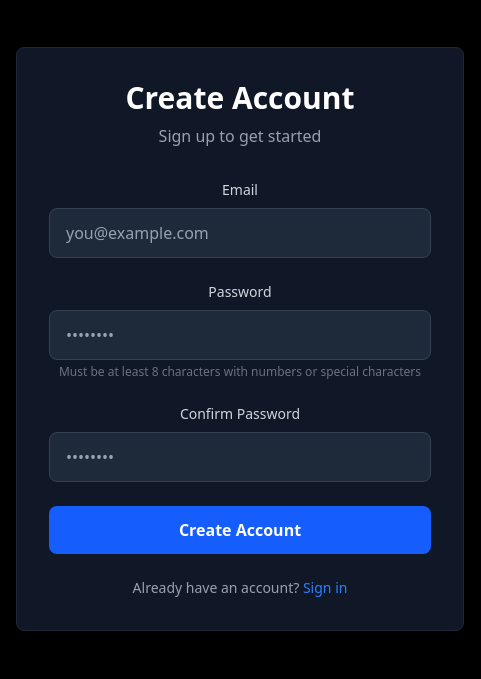
Test: Register Component › Error Handling › displays validation error message for 400 status
In the field labelled "Email": (240, 233) [49,208,431,258], type "test@example.com"
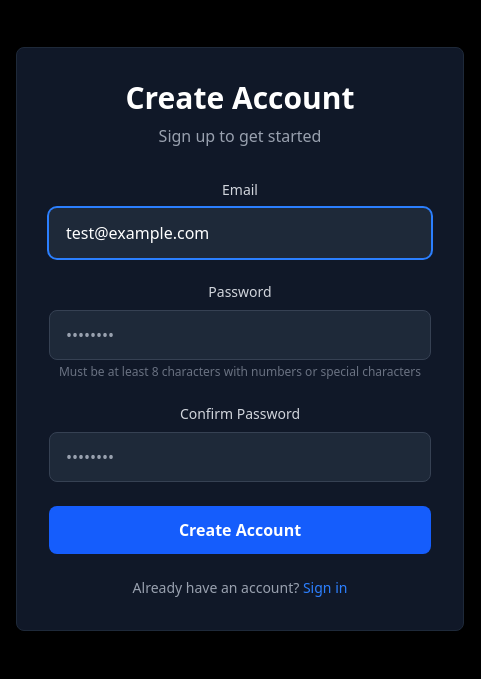
In the password field labelled "Password": (240, 335) [49,310,431,360], type "SecurePass123!"
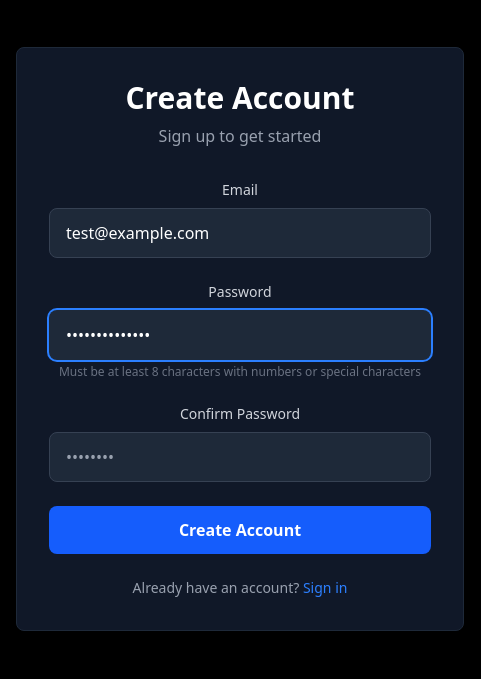
In the password field labelled "Confirm Password": (240, 457) [49,432,431,482], type "SecurePass123!"
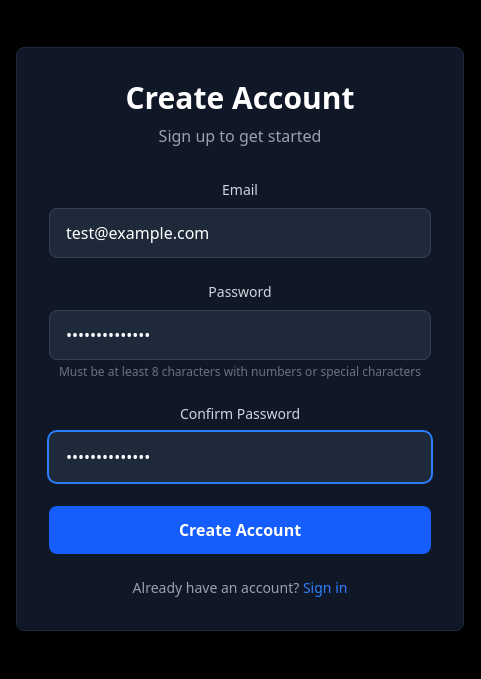
Click the button "Create Account": (240, 530) [49,506,431,554]
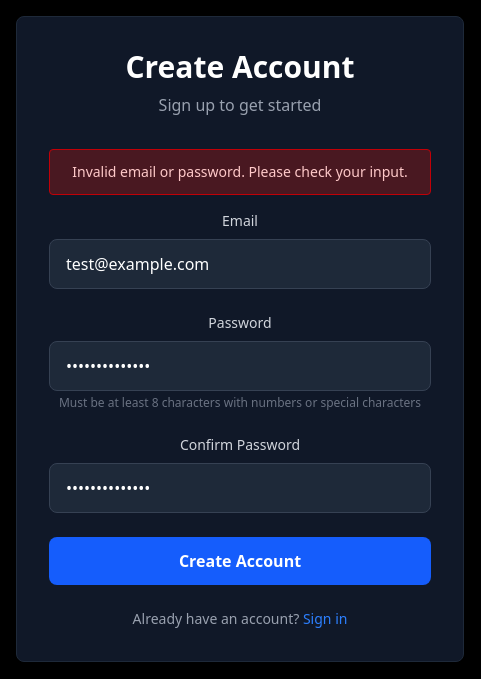
Check: the text "Invalid email or password. Please check your input." is shown, box [49,149,431,195]
